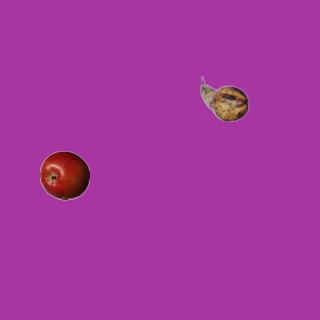Apple Braeburn: (39, 150, 89, 200)
Pear Abate: (199, 74, 249, 124)
